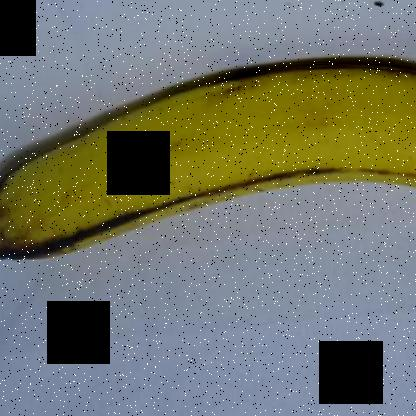ripe: (1, 44, 415, 279)
